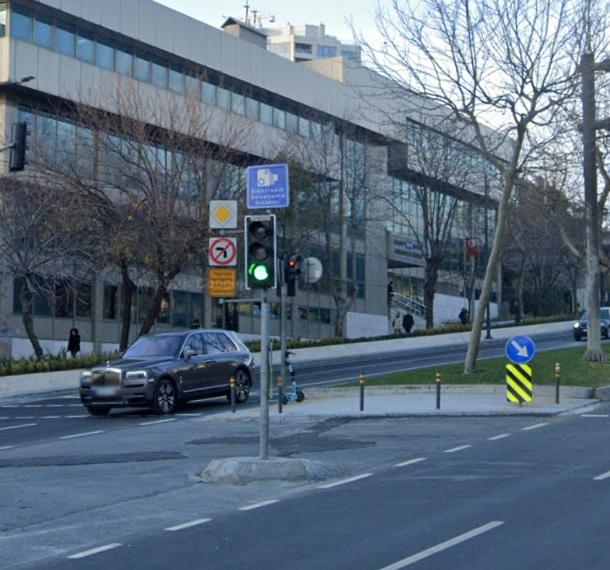greenlight: (245, 213, 275, 288)
leftturnsareforbidden: (212, 239, 235, 264)
